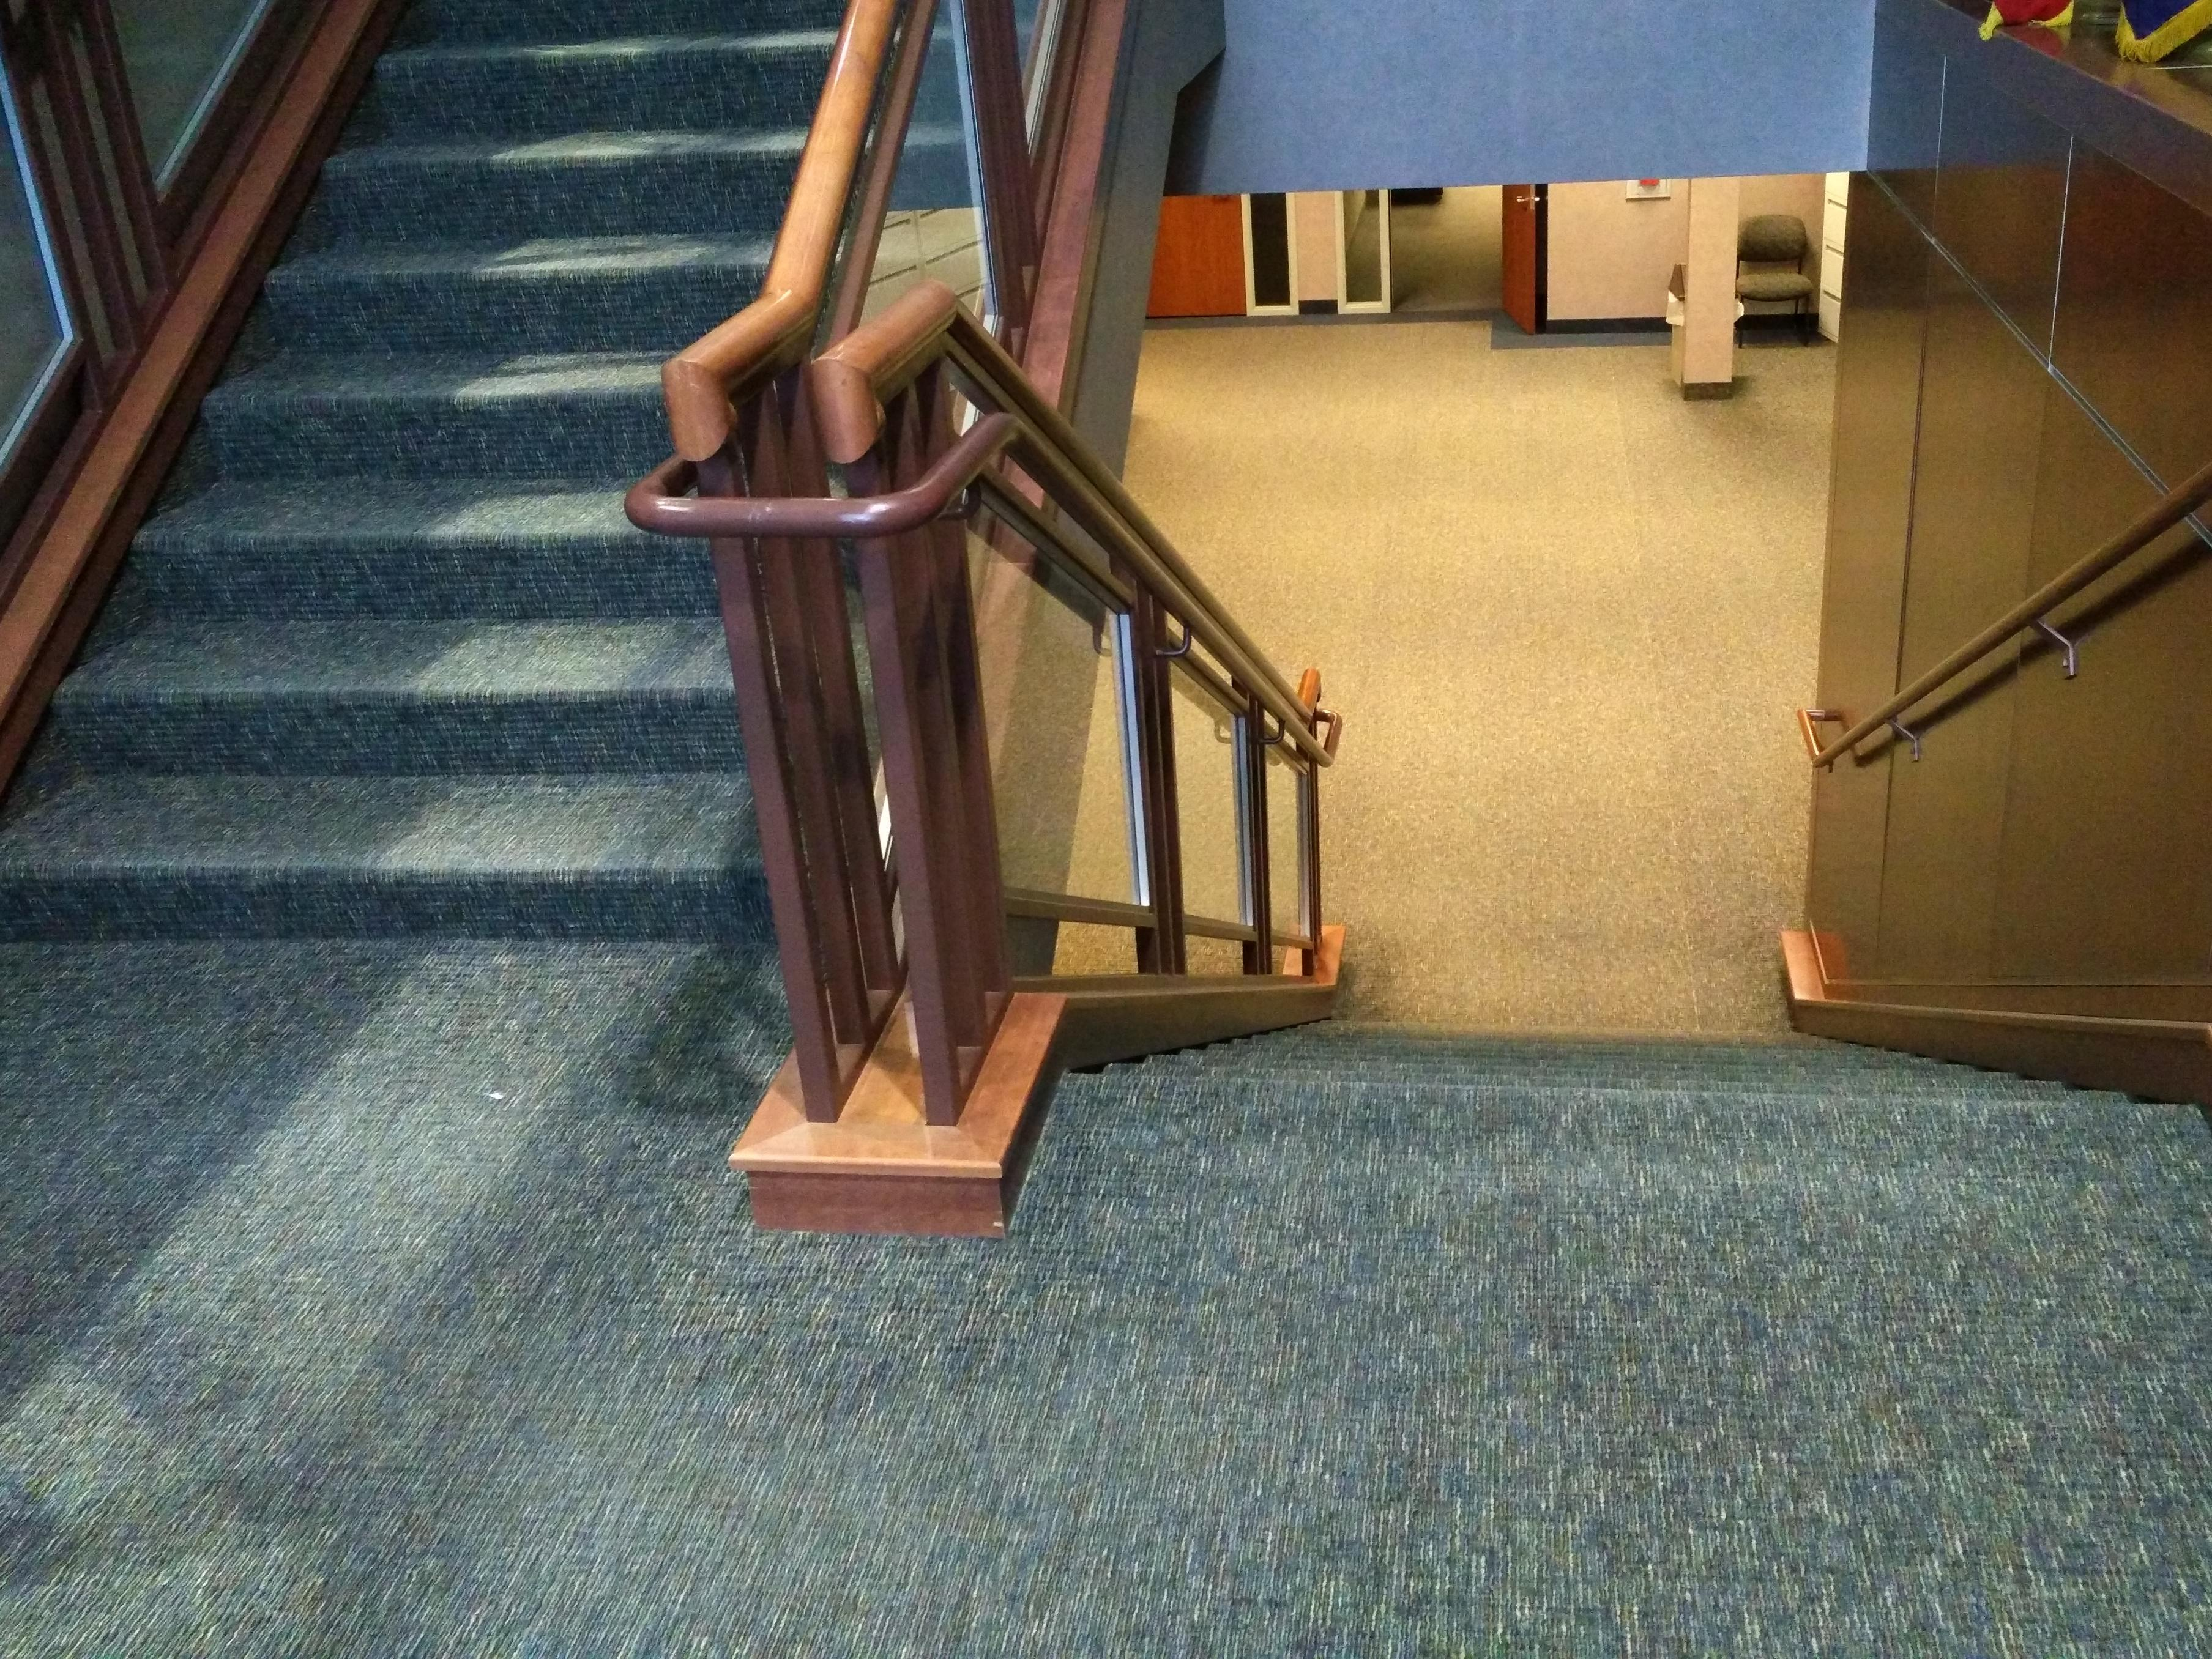stairs_down: (1053, 957, 2212, 1209)
stairs_up: (7, 30, 828, 1053)
